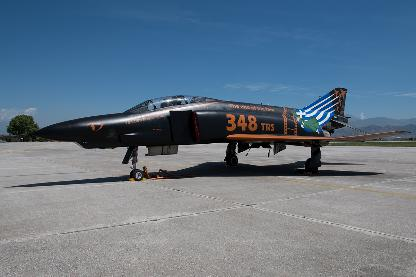F35: (2, 86, 410, 179)
